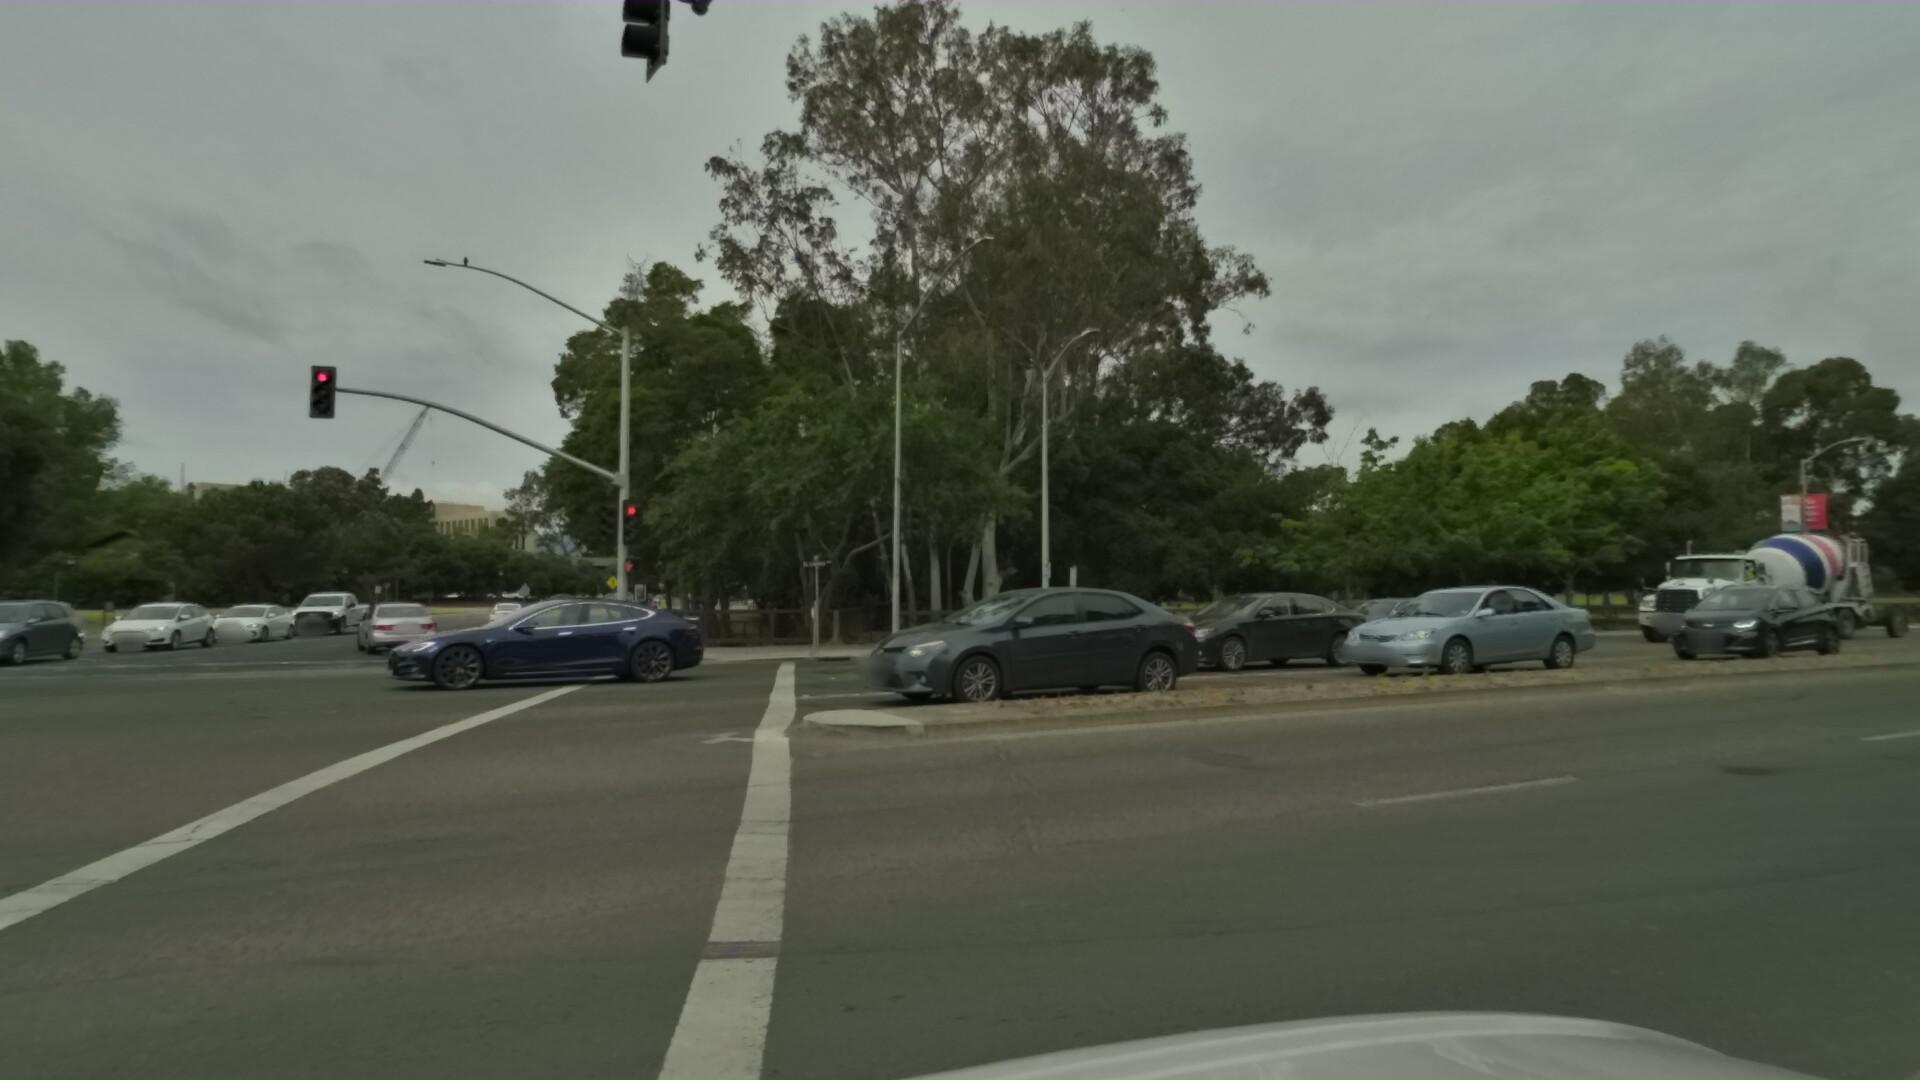car: (790, 579, 1192, 731), (1288, 568, 1596, 694), (307, 596, 645, 700), (1077, 588, 1327, 676), (1636, 575, 1836, 663), (1254, 593, 1433, 658), (55, 593, 210, 662), (0, 592, 76, 673), (169, 597, 290, 647), (257, 588, 365, 640), (330, 599, 419, 657)
truck: (1597, 522, 1891, 651)
